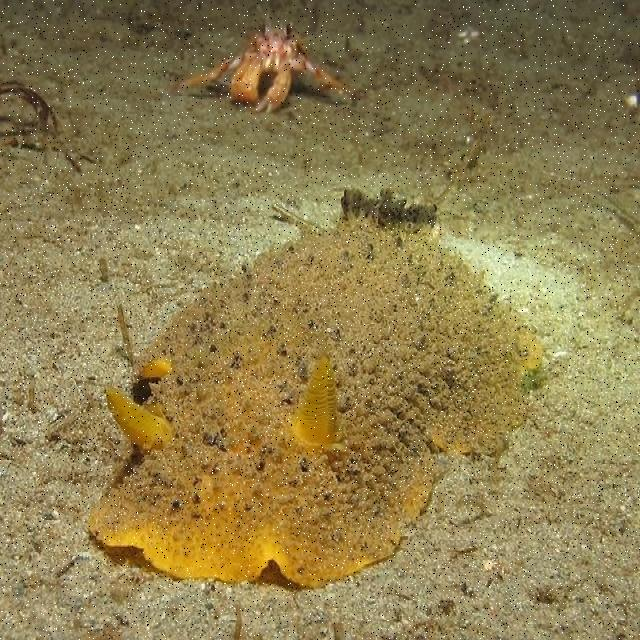reefs: (83, 183, 550, 593), (172, 14, 356, 116)
